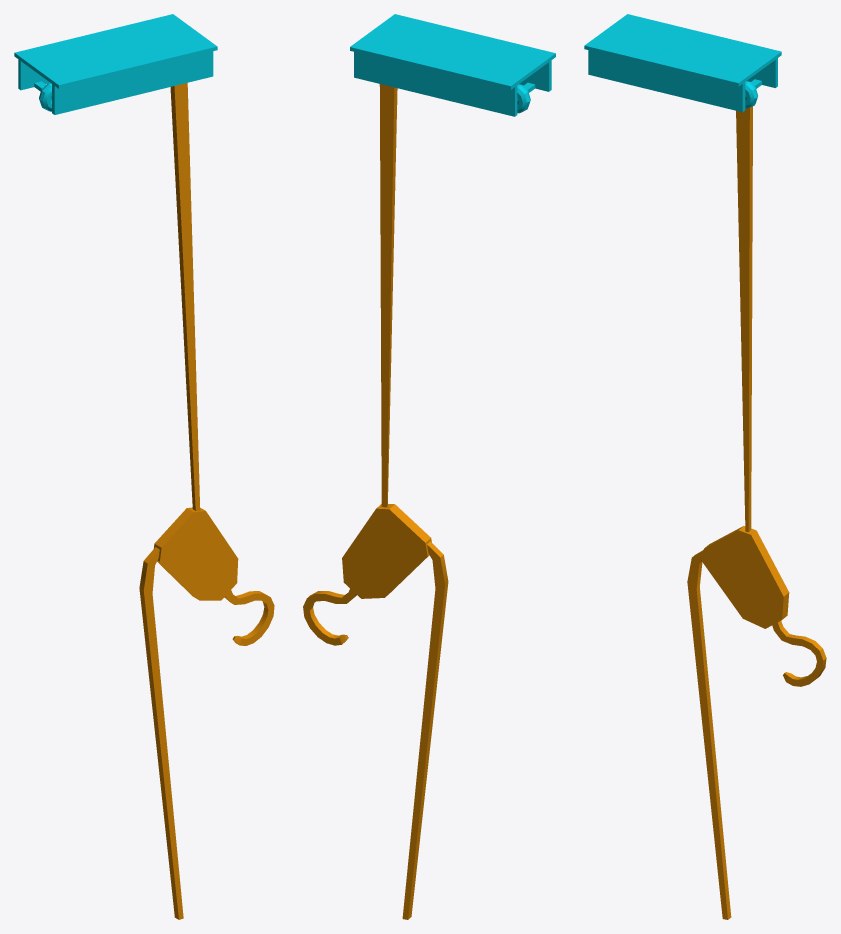
File: Crane hook broken.fbx
3 views of the same model, side by side, from view 1: azimuth 30°, elevation 25°; view 2: azimuth 150°, elevation 25°; view 3: azimuth 330°, elevation 25° (orthographic). The views are drawn at different scales.
Parts seen in each view (by area): view 1: hook1, entire_top_crane_hook_crane_pCube74; view 2: hook1, entire_top_crane_hook_crane_pCube74; view 3: hook1, entire_top_crane_hook_crane_pCube74.
Part boxes in pixels (<box>): hook1: <box>139,83,274,919</box>; entire_top_crane_hook_crane_pCube74: <box>14,14,217,114</box>; hook1: <box>303,84,448,919</box>; entire_top_crane_hook_crane_pCube74: <box>350,14,555,116</box>; hook1: <box>687,96,826,919</box>; entire_top_crane_hook_crane_pCube74: <box>584,14,781,112</box>.
Size of the model in its own units: 7.02 by 25.45 by 2.34.
